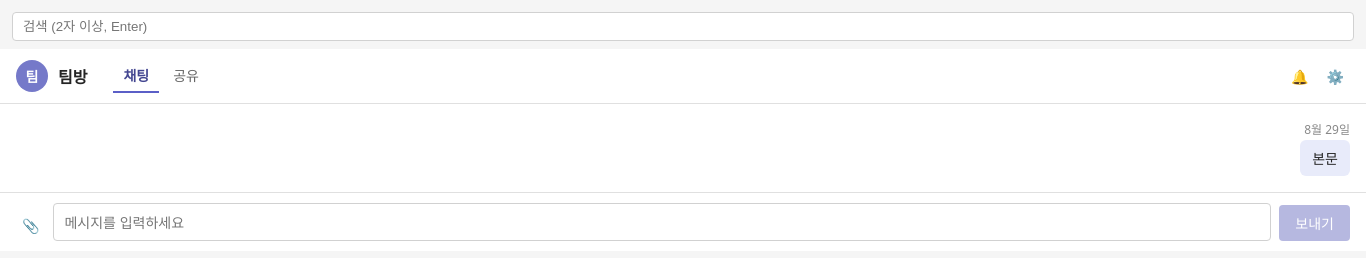
Test: ChatView 점프 파라미터 정리 › 공유 탭에서 같은 방 검색 결과를 누르면 채팅으로 전환하고 점프 후에도 유지한다
This screenshot has width=1366, height=258.
Expected: the text "본문" is shown, [1300,140,1350,176]
Click the button "공유".
click(186, 76)  # box [163,59,209,93]
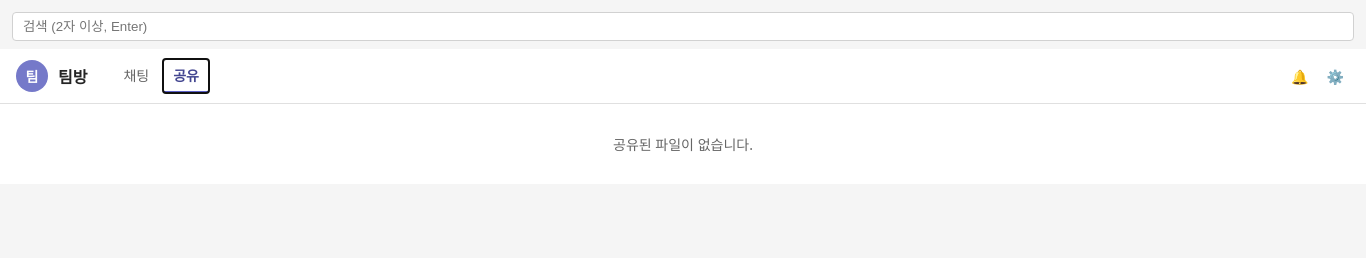
Now the text "공유된 파일이 없습니다." is shown, box [613,135,753,154]
Type "본문" into the field with placeholder "검색 (2자 이상, Enter)".
click(683, 26); type("본문")  # box [12,12,1354,41]
Then press Enter
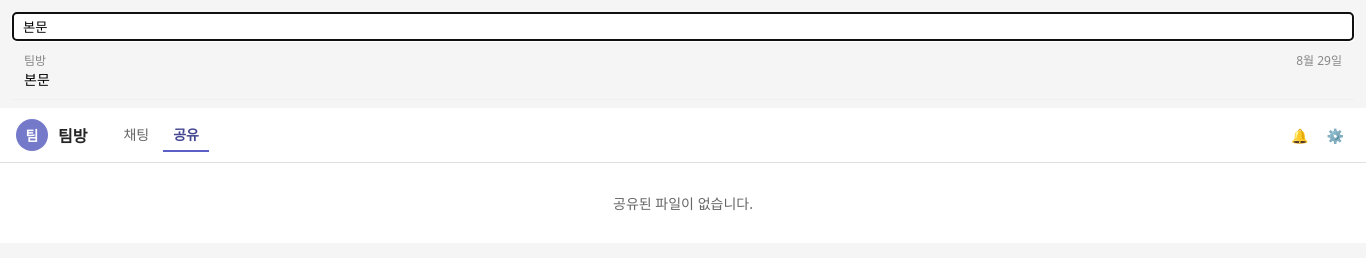
Click the button "팀방 8월 29일 본문".
click(1319, 60)  # box [12,41,1354,100]
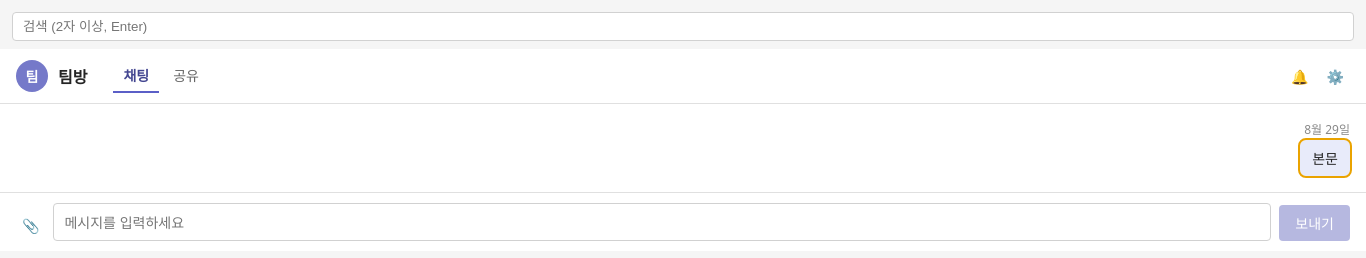
Now the button "채팅" has class "active", box [114,59,159,93]
Now the element with id "msg-m1" has class "highlight", box [1300,120,1350,176]
Click the button "공유".
click(186, 76)  # box [163,59,209,93]
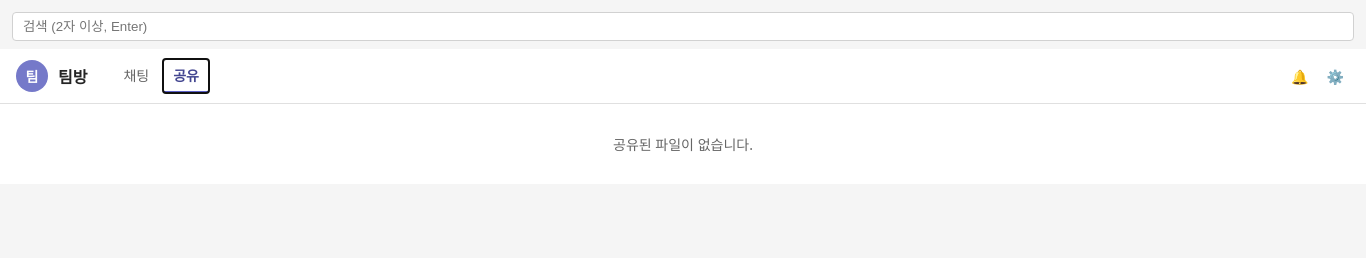
Now the text "공유된 파일이 없습니다." is shown, box [613,135,753,154]
